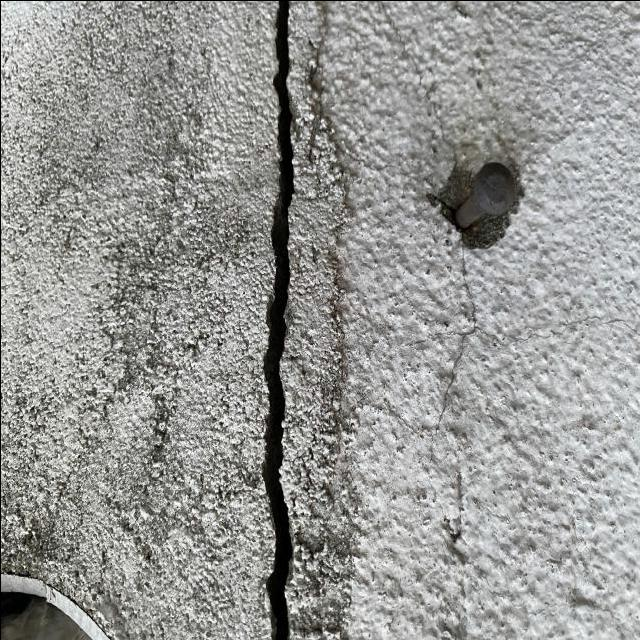SurfaceCrack: (200, 0, 402, 639)
